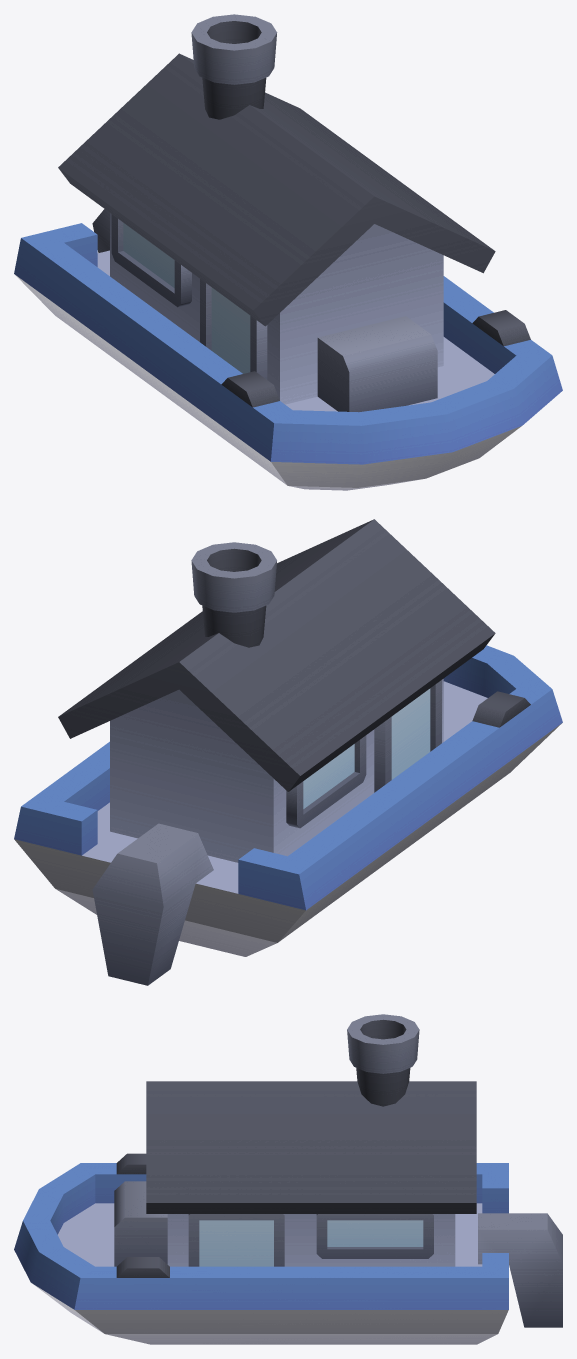
Rendered from boat-house-c.glb.
3 renders of one model, top to bottom at view 1: azimuth 30°, elevation 25°; view 2: azimuth 150°, elevation 25°; view 3: azimuth 270°, elevation 25°, orthographic. The views are drawn at different scales.
Visible parts, largest first — view 1: boat-house-c; view 2: boat-house-c; view 3: boat-house-c.
Boxes of the visible parts, bbox=[...] form: boat-house-c: bbox=[14, 14, 562, 490]; boat-house-c: bbox=[14, 519, 562, 985]; boat-house-c: bbox=[14, 1014, 562, 1344].
Bounding box in the file's own units: 2.68 × 3 × 5.15.
Materials: 1 (1 with a texture image).
